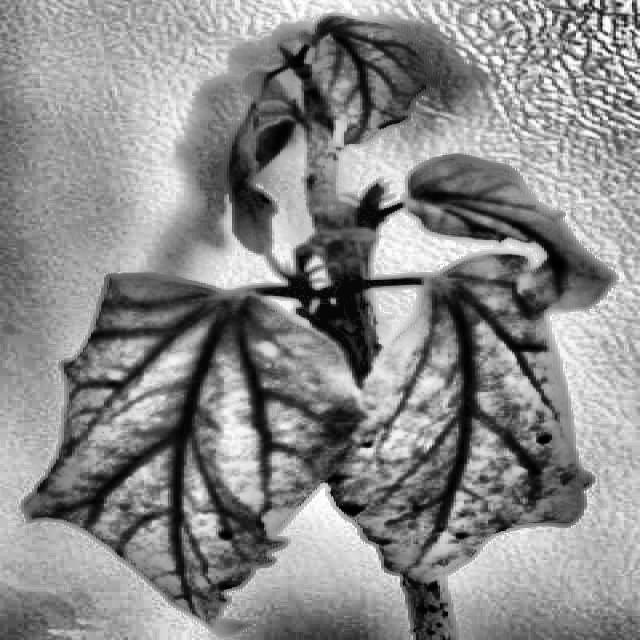plants: (35, 6, 632, 638)
